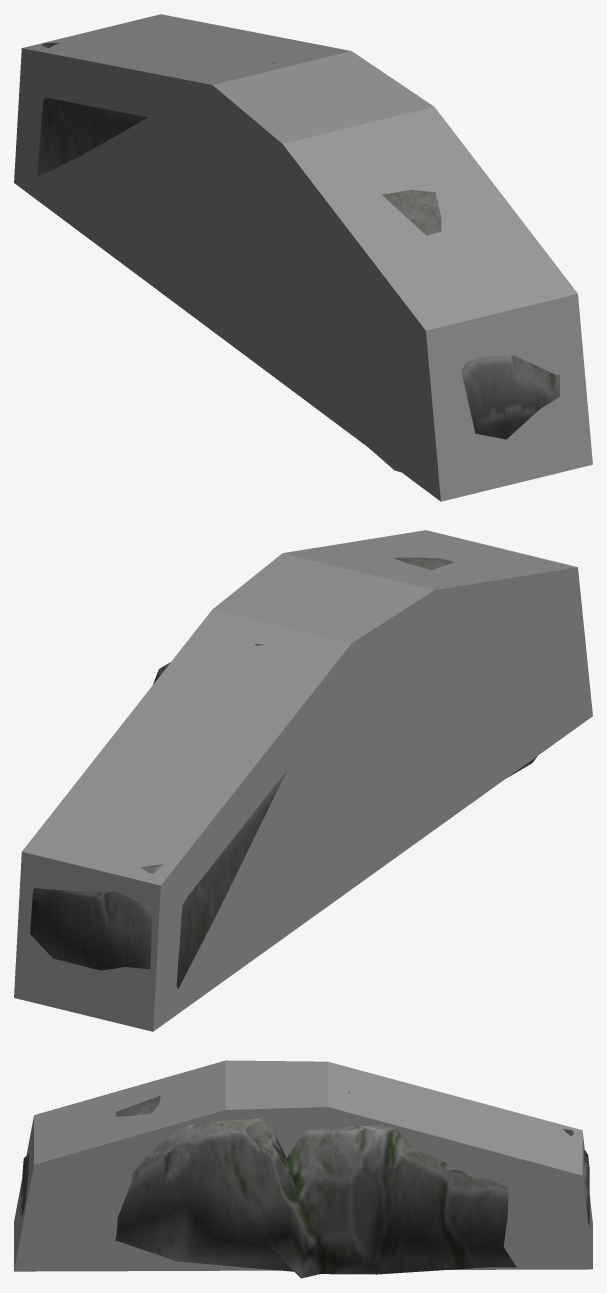
File: Scene_Rock_SuiShiTi_6.fbx
3 views of the same model, one above another, from view 1: azimuth 30°, elevation 25°; view 2: azimuth 150°, elevation 25°; view 3: azimuth 270°, elevation 25° (orthographic). The views are drawn at different scales.
Parts seen in each view (by area): view 1: Scene_Rock_SuiShiTi_6_Xzm, Scene_Rock_SuiShiTi_6; view 2: Scene_Rock_SuiShiTi_6_Xzm, Scene_Rock_SuiShiTi_6; view 3: Scene_Rock_SuiShiTi_6_Xzm, Scene_Rock_SuiShiTi_6.
Part boxes in pixels (bbox=[...]): Scene_Rock_SuiShiTi_6_Xzm: bbox=[14, 14, 592, 501]; Scene_Rock_SuiShiTi_6: bbox=[37, 42, 559, 472]; Scene_Rock_SuiShiTi_6_Xzm: bbox=[14, 530, 592, 1031]; Scene_Rock_SuiShiTi_6: bbox=[30, 557, 537, 989]; Scene_Rock_SuiShiTi_6_Xzm: bbox=[14, 1060, 592, 1271]; Scene_Rock_SuiShiTi_6: bbox=[19, 1091, 589, 1278].
Size of the model in its own units: 38.05 by 54.67 by 170.
